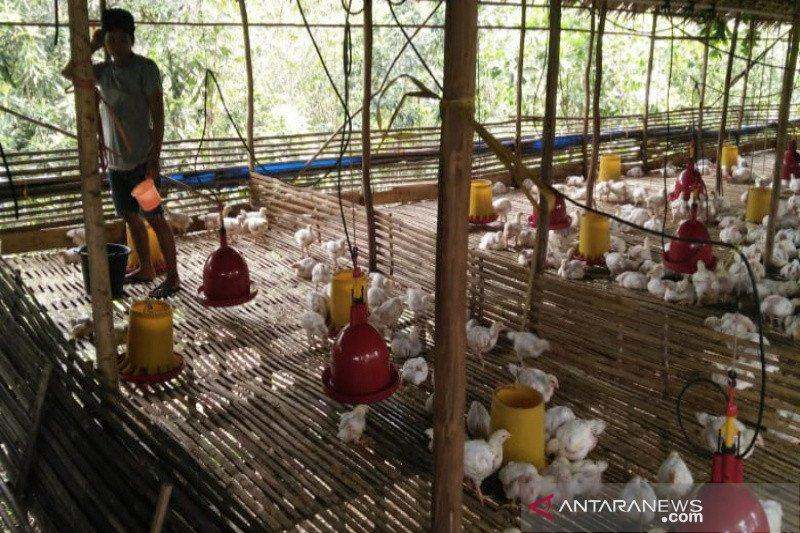chicken: (458, 427, 515, 490), (548, 415, 608, 457), (505, 361, 560, 402), (464, 319, 508, 358), (508, 327, 552, 361), (340, 401, 372, 443), (300, 307, 330, 351), (392, 323, 425, 357), (371, 296, 405, 324), (402, 354, 431, 385), (407, 284, 439, 312), (367, 273, 389, 310), (246, 208, 271, 238), (326, 233, 348, 267), (294, 223, 317, 250), (310, 263, 332, 287), (292, 258, 318, 278)
